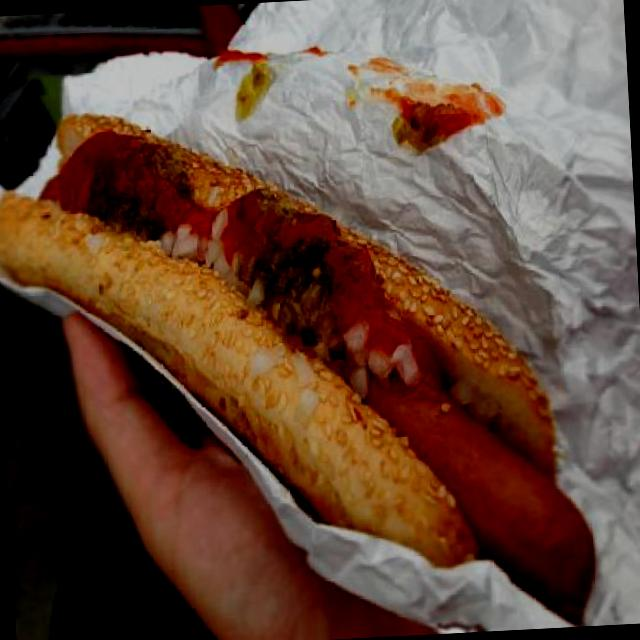Person: (34, 293, 447, 640)
